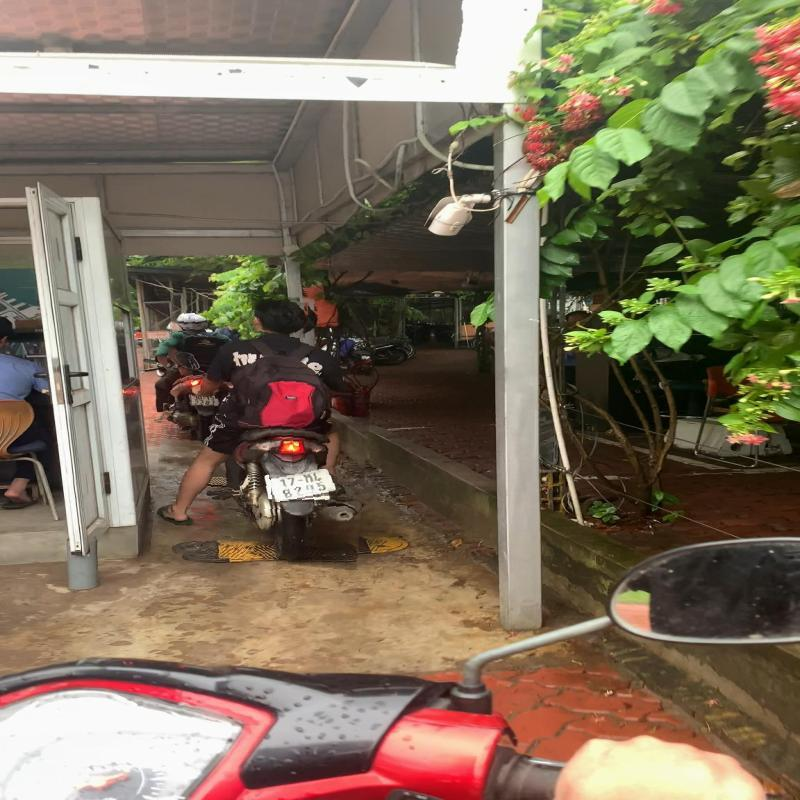licenseplate: (270, 469, 338, 500)
motorcyclist: (156, 291, 374, 566)
nohelmet: (250, 296, 308, 336)
